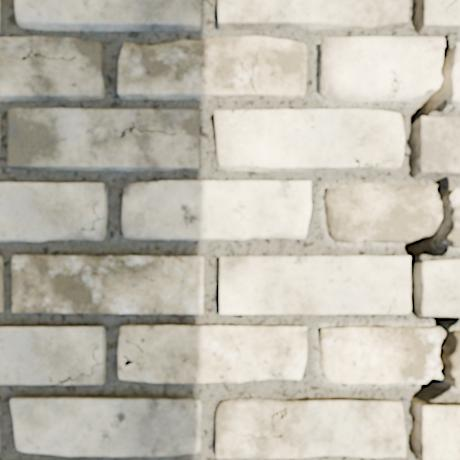brick: (118, 36, 305, 99), (8, 108, 198, 170), (214, 109, 402, 170), (12, 255, 202, 313), (11, 397, 201, 455), (215, 399, 404, 457), (122, 181, 310, 239), (219, 256, 409, 313), (118, 325, 305, 382), (0, 37, 103, 99), (0, 183, 106, 241), (0, 327, 104, 383), (15, 0, 200, 30), (217, 0, 407, 29), (416, 117, 459, 175), (417, 404, 459, 459), (418, 260, 459, 315), (419, 0, 459, 31), (0, 256, 2, 310)
broken_brick: (318, 36, 443, 101), (318, 326, 443, 384), (323, 183, 440, 244), (444, 187, 459, 248), (448, 45, 459, 105), (450, 330, 459, 389)
crack: (399, 0, 459, 458), (47, 375, 78, 384), (444, 0, 457, 10), (387, 304, 391, 313)
